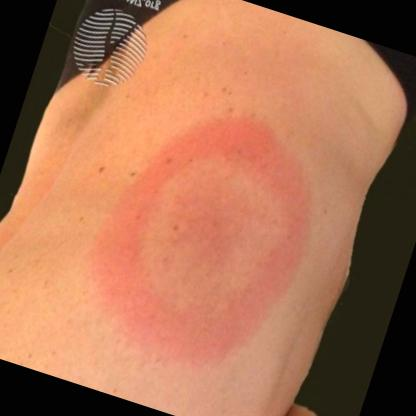Ringworm: (47, 70, 357, 410)
